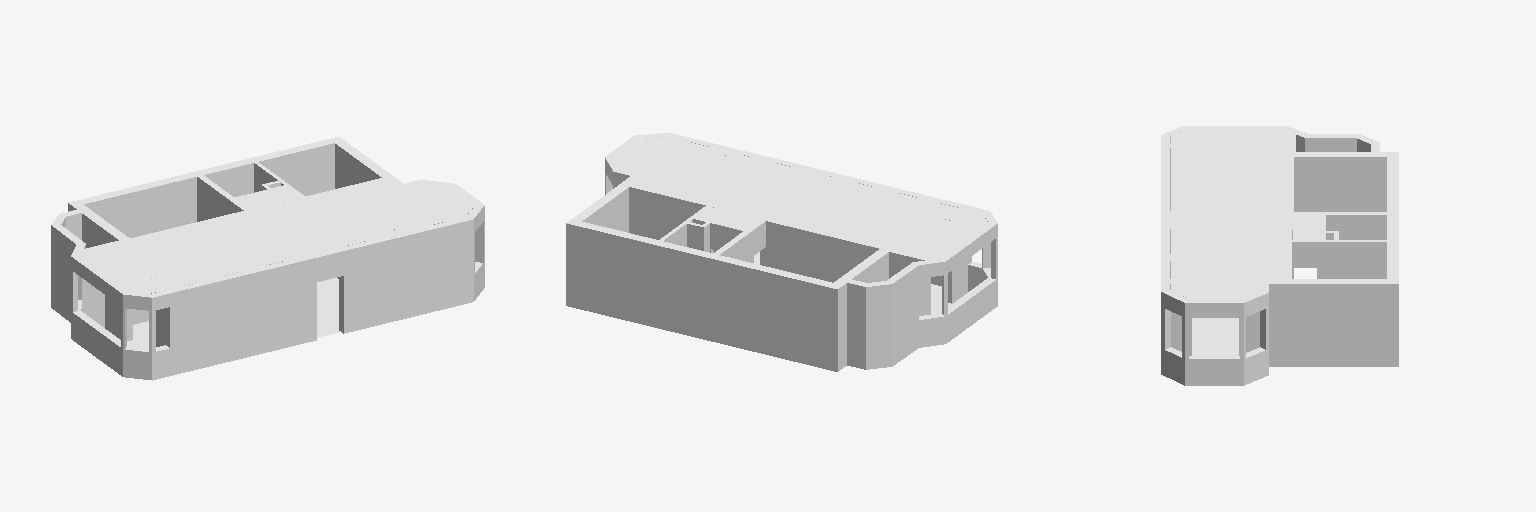
The model's file is render.obj.
3 views of the same model, side by side, from view 1: azimuth 30°, elevation 25°; view 2: azimuth 150°, elevation 25°; view 3: azimuth 270°, elevation 25° (orthographic).
Parts seen in each view (by area): view 1: room_1_338, wall_35_209, wall_14_83, wall_36_215, room_2_340, wall_42_251, wall_3_14, wall_43_257, wall_4_20, room_1_337, wall_2_8, wall_40_239 (+9 smaller); view 2: wall_14_80, room_1_338, wall_16_95, room_2_340, wall_3_14, wall_4_20, wall_5_26, wall_29_173, wall_6_32, wall_13_74, wall_40_239, wall_14_81 (+5 smaller); view 3: room_1_338, wall_40_236, wall_13_77, room_2_340, wall_8_47, wall_32_188, wall_41_242, wall_7_41, wall_9_53, wall_30_176, room_1_337, room_2_339 (+4 smaller).
Boxes of the visible parts, x1=… form: room_1_338: x1=81, y1=188, x2=390, y2=293; wall_35_209: x1=175, y1=259, x2=312, y2=374; wall_14_83: x1=84, y1=143, x2=334, y2=237; wall_36_215: x1=313, y1=238, x2=399, y2=340; room_2_340: x1=335, y1=181, x2=474, y2=230; wall_42_251: x1=407, y1=225, x2=452, y2=317; wall_3_14: x1=71, y1=257, x2=122, y2=376; wall_43_257: x1=453, y1=219, x2=473, y2=306; wall_4_20: x1=51, y1=225, x2=75, y2=322; room_1_337: x1=127, y1=278, x2=340, y2=347; wall_2_8: x1=123, y1=295, x2=151, y2=379; wall_40_239: x1=335, y1=144, x2=381, y2=188; wall_14_80: x1=566, y1=223, x2=837, y2=371; room_1_338: x1=687, y1=155, x2=987, y2=259; wall_16_95: x1=760, y1=221, x2=878, y2=282; room_2_340: x1=615, y1=137, x2=728, y2=195; wall_3_14: x1=946, y1=224, x2=997, y2=343; wall_4_20: x1=892, y1=266, x2=918, y2=366; wall_5_26: x1=866, y1=284, x2=891, y2=369; wall_29_173: x1=629, y1=187, x2=676, y2=239; wall_6_32: x1=847, y1=283, x2=865, y2=369; wall_13_74: x1=838, y1=252, x2=888, y2=371; wall_40_239: x1=582, y1=188, x2=628, y2=232; wall_14_81: x1=567, y1=222, x2=836, y2=288; room_1_338: x1=1166, y1=130, x2=1322, y2=253; wall_40_236: x1=1288, y1=284, x2=1398, y2=366; wall_13_77: x1=1294, y1=157, x2=1386, y2=211; room_2_340: x1=1171, y1=254, x2=1282, y2=298; wall_8_47: x1=1185, y1=303, x2=1243, y2=385; wall_32_188: x1=1322, y1=242, x2=1386, y2=278; wall_41_242: x1=1269, y1=284, x2=1287, y2=366; wall_7_41: x1=1161, y1=292, x2=1184, y2=385; wall_9_53: x1=1244, y1=293, x2=1268, y2=385; wall_30_176: x1=1326, y1=215, x2=1386, y2=239; room_1_337: x1=1192, y1=318, x2=1238, y2=336; room_2_339: x1=1192, y1=337, x2=1238, y2=355.
Bounding box in the file's own units: 1377 × 300 × 780.